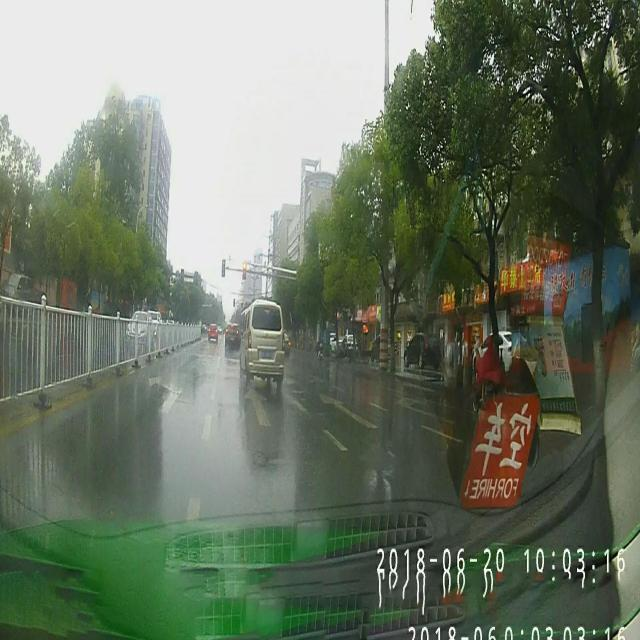car: (238, 298, 284, 386), (224, 318, 240, 352), (208, 322, 218, 342)
